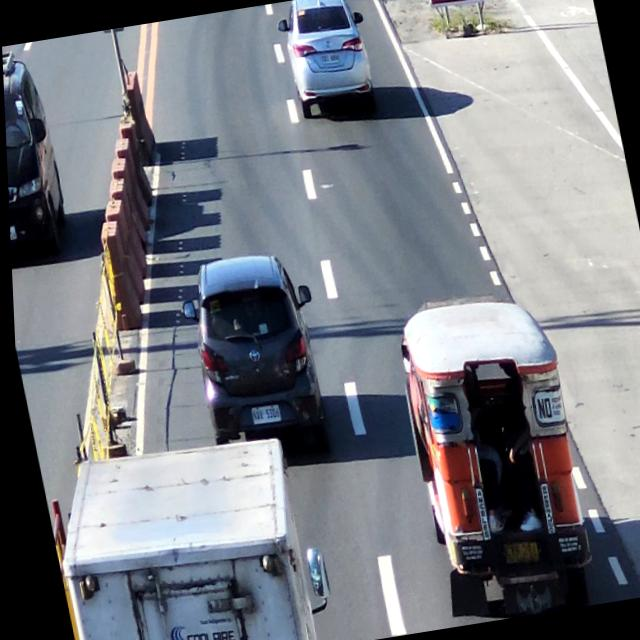Car: (172, 249, 327, 444), (276, 0, 374, 123)
Jeep: (378, 281, 596, 628)
License-Plate: (492, 529, 541, 573), (245, 399, 280, 428), (320, 49, 342, 70)
Truck: (46, 432, 327, 640)
